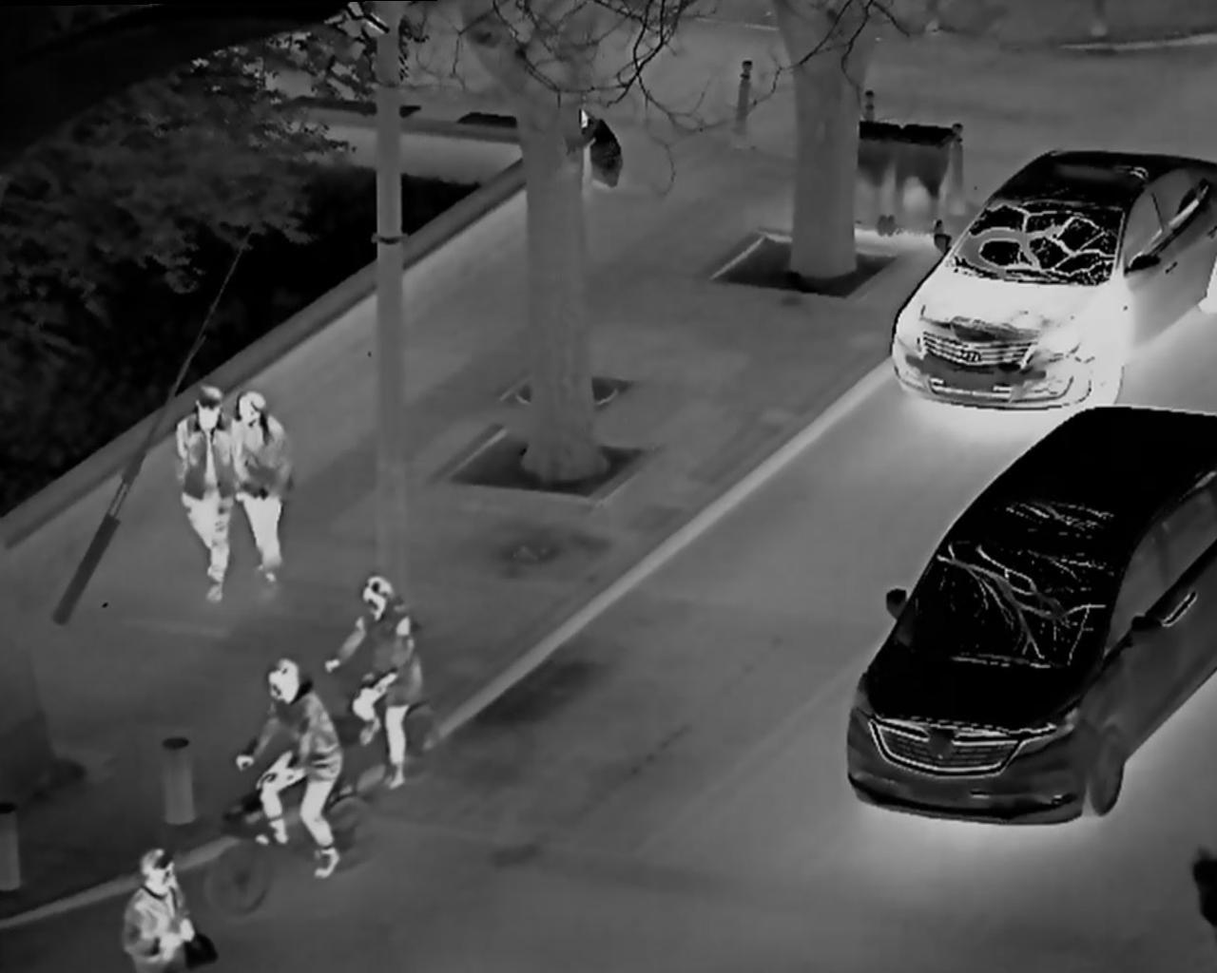person: (232, 652, 357, 897), (315, 557, 435, 797), (220, 386, 310, 592), (162, 377, 244, 601), (103, 835, 230, 973)
